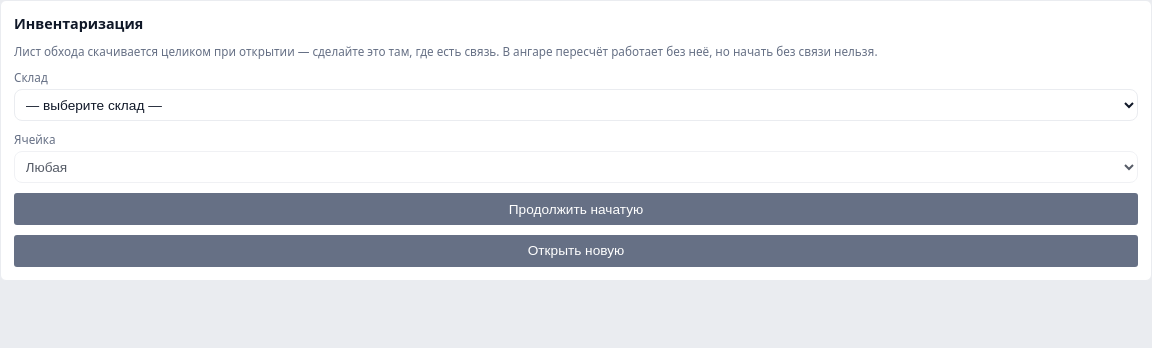
сторож размонтирования на пересчёте › в StrictMode отказ виден, а кнопки открытия зажигаются обратно
Select "Ткацкая" in the dropdown labelled "Склад" at (576, 105), box [14,89,1138,121]
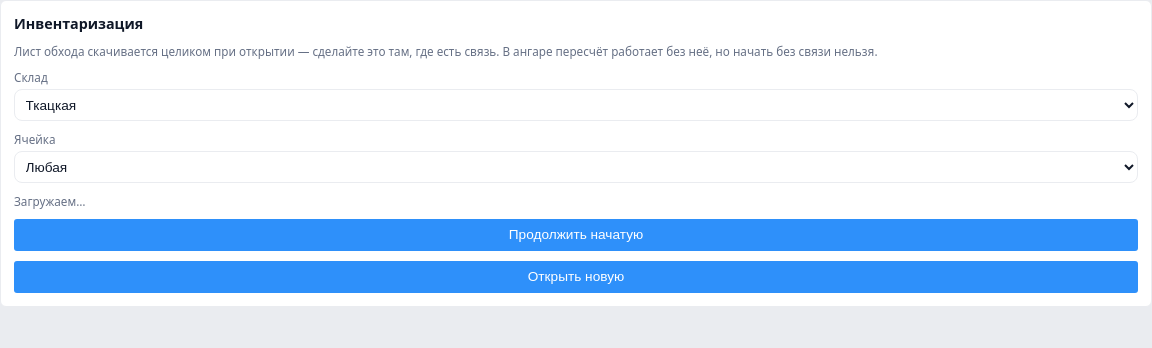
Click the button "Продолжить начатую" at (576, 235), box [14,219,1138,251]
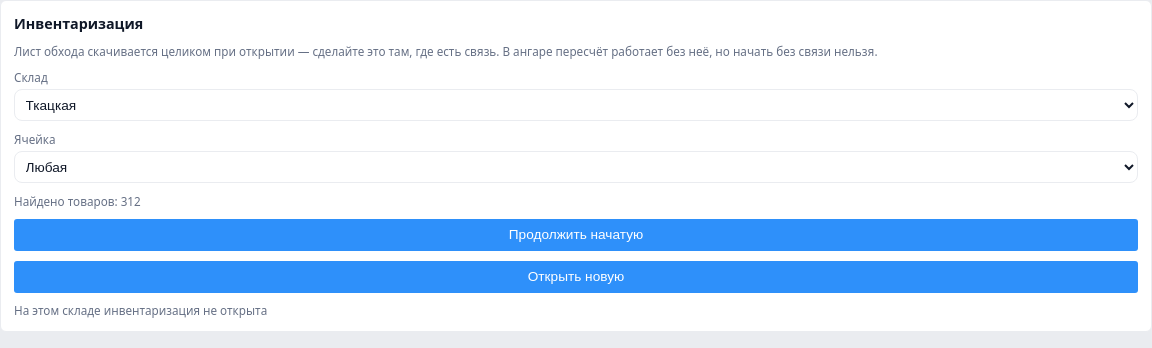
Expected: the button "Продолжить начатую" is enabled, [14,219,1138,251]
Expected: the button "Открыть новую" is enabled, [14,261,1138,293]
Expected: the text "На этом складе инвентаризация не открыта" is shown, [14,302,267,318]
